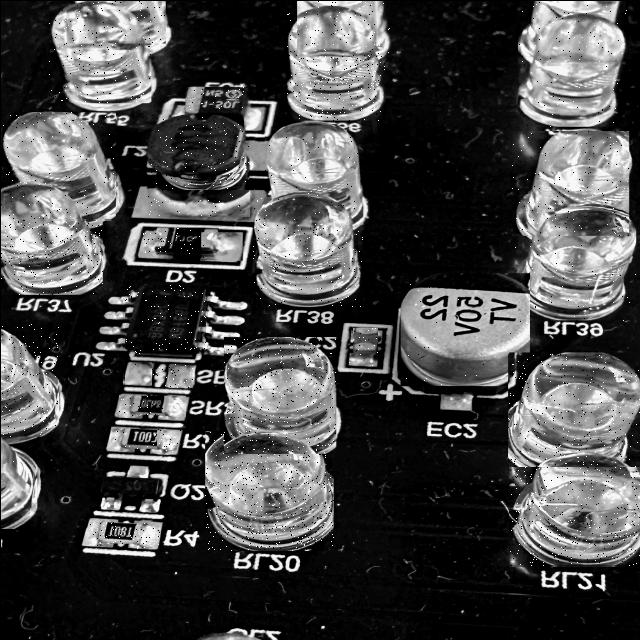Capacitor: (399, 272, 529, 386), (184, 86, 248, 115), (351, 327, 376, 359)
Diode: (153, 227, 217, 253)
IC: (123, 284, 205, 353)
Inductor: (146, 114, 248, 203)
Register: (96, 521, 145, 543), (120, 428, 165, 448), (129, 395, 171, 414), (150, 363, 167, 386)
Soldering: (147, 189, 249, 216), (200, 232, 242, 260), (122, 361, 150, 385), (168, 363, 194, 387), (136, 522, 159, 548), (156, 429, 180, 451), (163, 396, 185, 418), (243, 105, 260, 129), (118, 394, 134, 417), (142, 232, 160, 252), (110, 427, 125, 450), (88, 521, 102, 545), (348, 354, 375, 365)
led: (508, 446, 640, 566), (204, 430, 333, 550), (507, 352, 640, 466), (513, 200, 635, 320), (223, 336, 335, 454), (252, 188, 362, 306), (516, 11, 624, 126), (1, 112, 115, 220), (511, 130, 628, 235), (0, 181, 102, 294), (285, 7, 384, 120), (48, 1, 150, 102), (264, 126, 362, 224), (518, 0, 628, 62), (0, 323, 58, 436), (296, 0, 389, 55), (0, 410, 37, 528), (66, 0, 164, 43)
